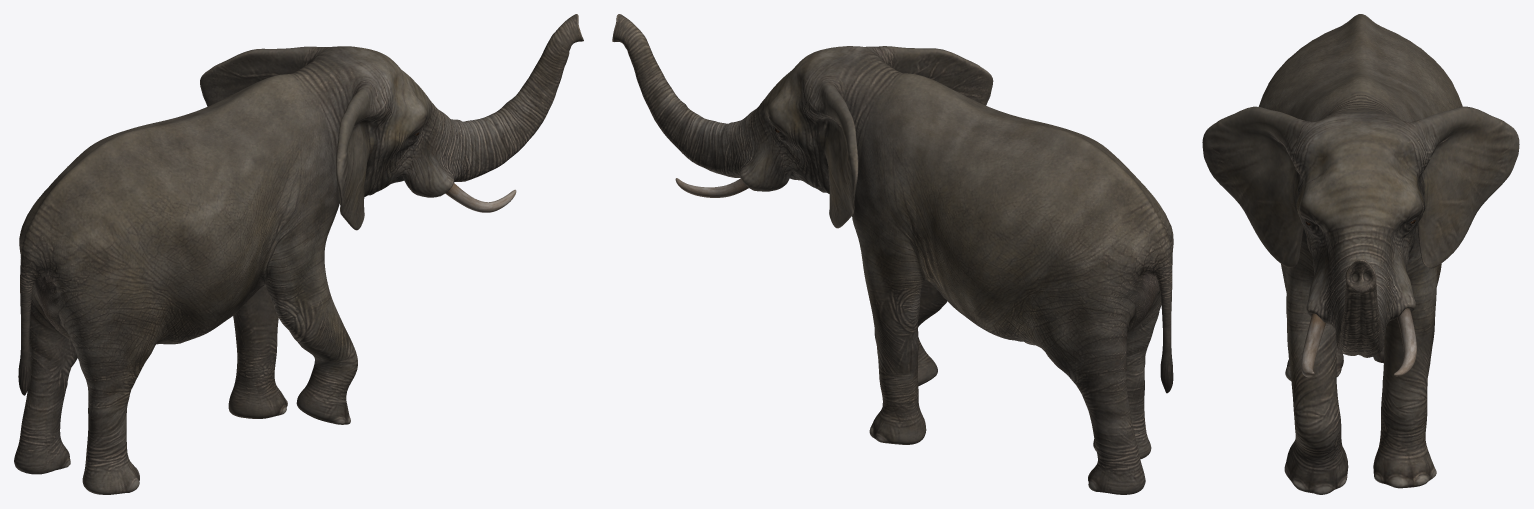
Rendered from Asian Elephant 1.gltf.
3 renders of one model, left to right at view 1: azimuth 30°, elevation 25°; view 2: azimuth 150°, elevation 25°; view 3: azimuth 270°, elevation 25°, orthographic. The views are drawn at different scales.
Parts seen in each view (by area): view 1: Object_5; view 2: Object_5; view 3: Object_5.
Boxes of the visible parts, x1,y1,x2,y2 form: Object_5: (14, 14, 583, 494); Object_5: (612, 14, 1173, 494); Object_5: (1202, 14, 1519, 494).
Bounding box in the file's own units: 25.67 × 15.33 × 11.03.
1 material, 1 textured.
